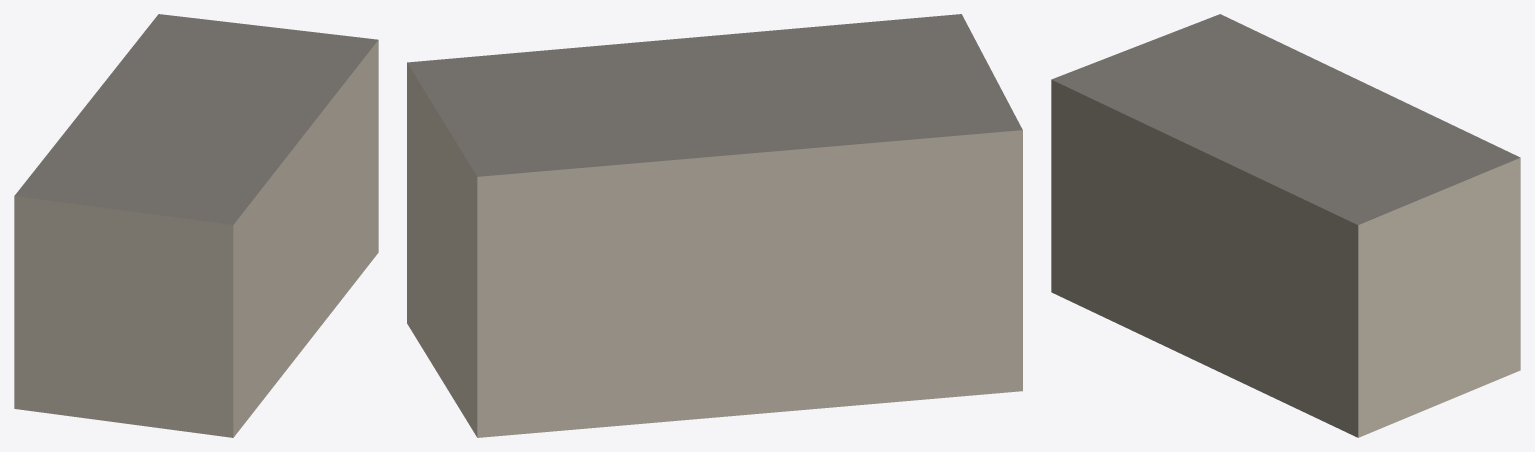
3 views of the same model, side by side, from view 1: azimuth 30°, elevation 25°; view 2: azimuth 150°, elevation 25°; view 3: azimuth 270°, elevation 25° (orthographic). The views are drawn at different scales.
Parts seen in each view (by area): view 1: HP-w505641132; view 2: HP-w505641132; view 3: HP-w505641132.
Part boxes in pixels (x1,y1,x2,y2): HP-w505641132: (14, 14, 378, 437); HP-w505641132: (407, 14, 1022, 437); HP-w505641132: (1051, 14, 1520, 437).
Bounding box in the file's own units: 25.55 × 12 × 23.99.
